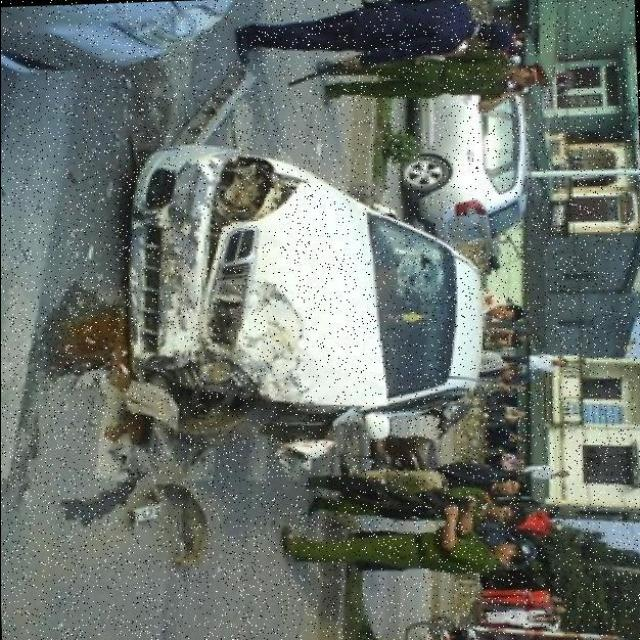accident: (109, 146, 484, 460)
